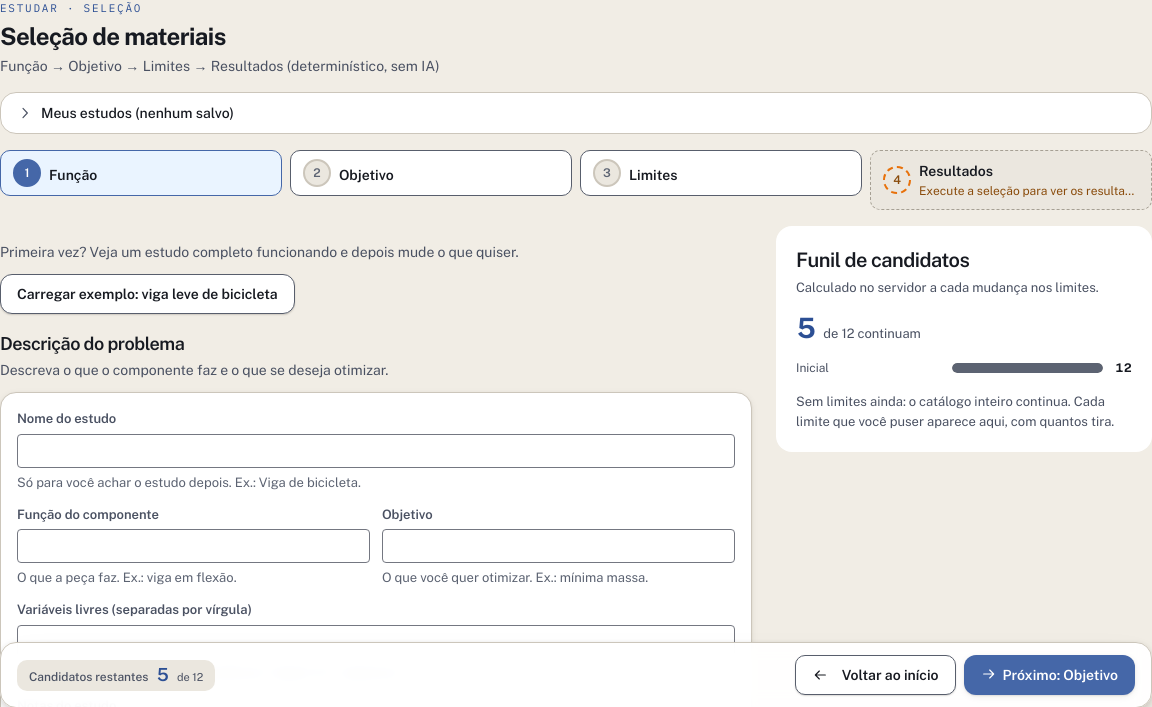
exemplo em um clique (D-85) › refuses to load half an example, naming what the catalogue lacks
Click the button "Carregar exemplo: viga leve de bicicleta" at point(147, 294), box [0,274,295,314]
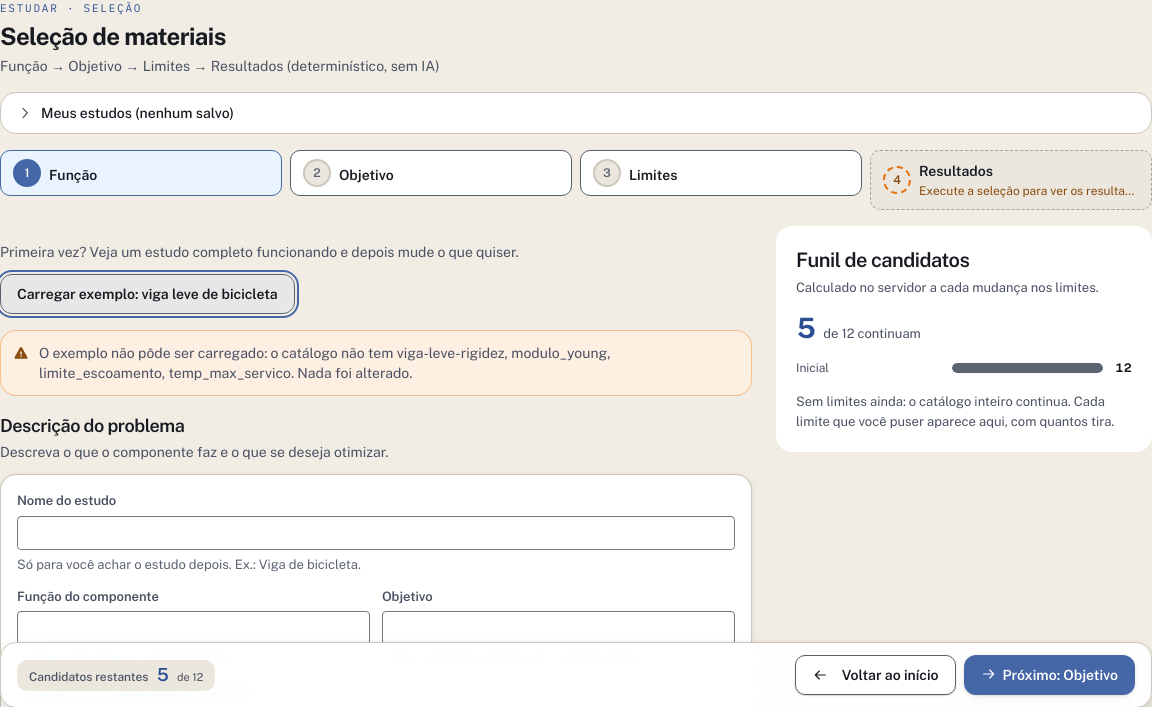
Expected: the field labelled "Nome do estudo" is empty, [17,516,735,550]
Expected: the text "O exemplo não pôde ser carregado" shows "viga-leve-rigidez", [39,345,610,381]
